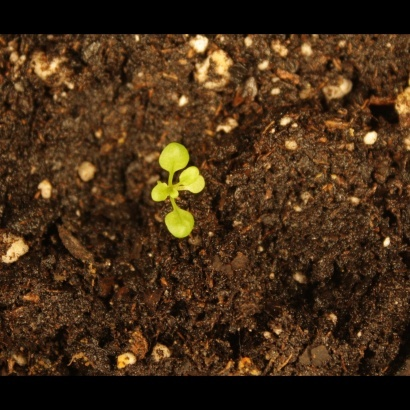leaf: (157, 207, 206, 244), (153, 138, 194, 177), (149, 182, 172, 205), (184, 174, 207, 197), (179, 165, 202, 188)
